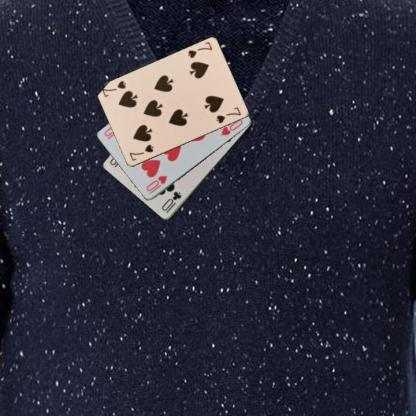10c: (159, 189, 182, 214)
10h: (144, 173, 168, 196)
7s: (126, 142, 155, 162), (185, 40, 213, 60)
